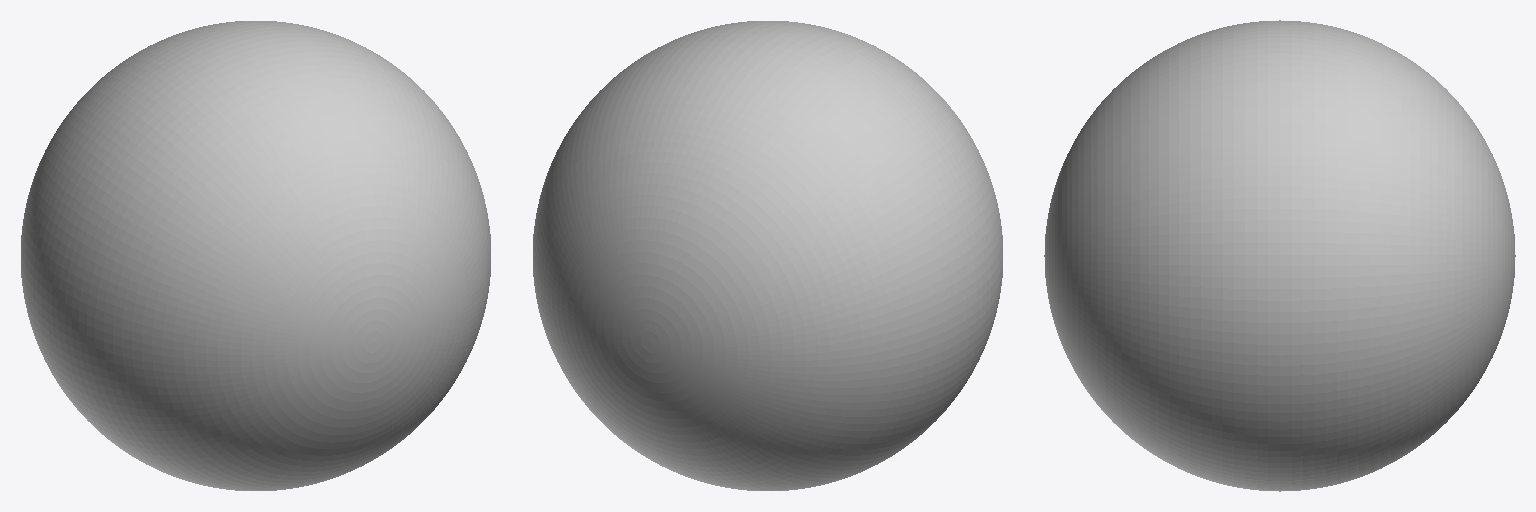
File: sky.obj
3 renders of one model, left to right at view 1: azimuth 30°, elevation 25°; view 2: azimuth 150°, elevation 25°; view 3: azimuth 270°, elevation 25°, orthographic.
Visible parts, largest first — view 1: Sphere_Mesh; view 2: Sphere_Mesh; view 3: Sphere_Mesh.
Part boxes in pixels (left/top/right/bottom): Sphere_Mesh: left=21, top=21, right=490, bottom=490; Sphere_Mesh: left=533, top=21, right=1002, bottom=490; Sphere_Mesh: left=1044, top=20, right=1515, bottom=491.
Size of the model in its own units: 934 by 934 by 934.